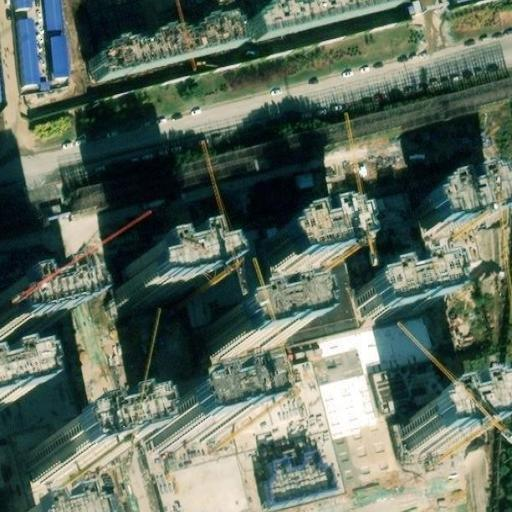building: (89, 16, 240, 84), (117, 240, 208, 303), (415, 180, 506, 243), (23, 421, 113, 484), (210, 307, 300, 370), (224, 377, 315, 439), (266, 213, 357, 275), (16, 273, 106, 335), (357, 261, 447, 323), (400, 401, 482, 460), (268, 448, 341, 507), (15, 18, 42, 85), (51, 35, 70, 77), (44, 0, 63, 31), (16, 0, 33, 10)
